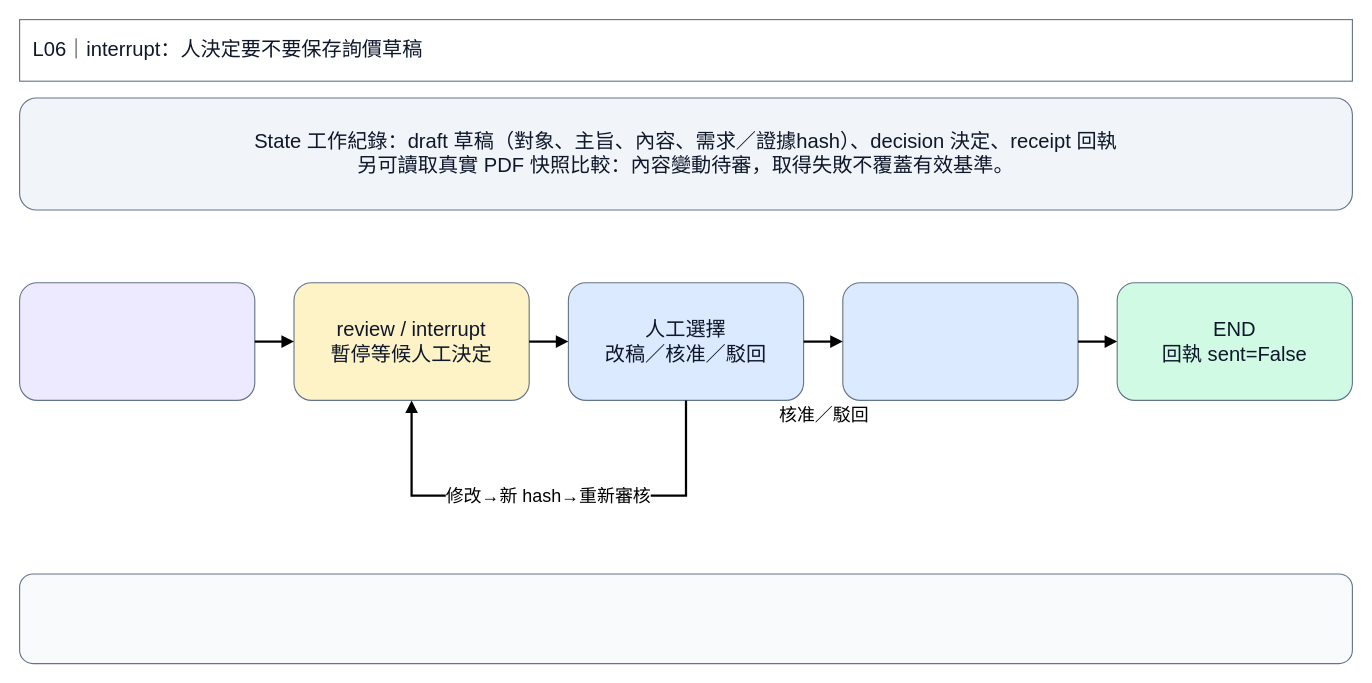
The diagram is 1372 pixels wide and 683 high, and some of its shapes have lost their labels. The shapes that lost their labels are listed below. From the top down, each one's centre as x and y in pixels, then its label:
(x=136, y=341): 模型產生 RFQ 台灣120台詢價草稿
(x=960, y=341): archive 或 END 核准存本機；駁回結束
(x=685, y=618): 真實公開來源 + 教學採購需求｜官網規格 ≠ 台灣指定 SKU／報價／服務權益 不確定就留下供應商問題。完整步驟與驗收請看圖下方。
